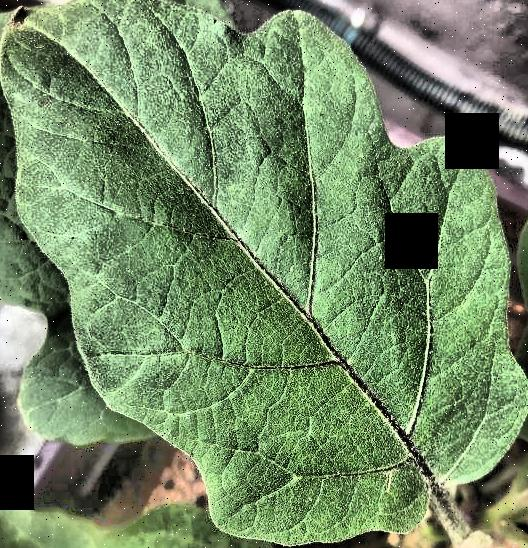HEALTHY: (0, 1, 528, 548)
